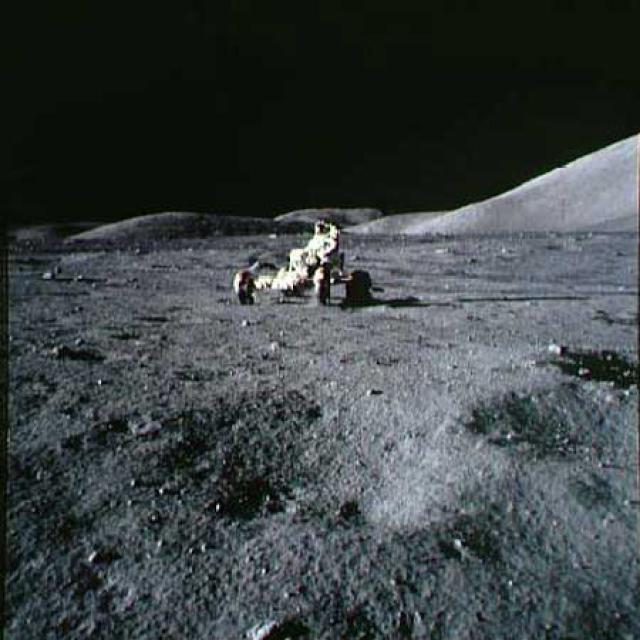artifact: (221, 220, 392, 306)
crater: (558, 346, 638, 384)
